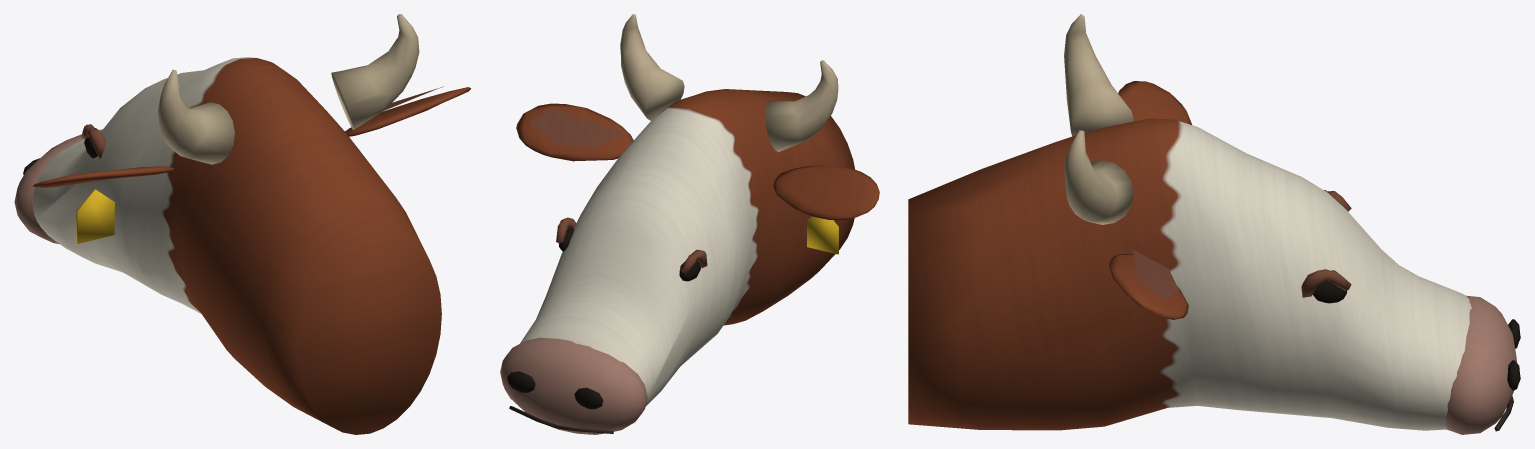
The model's file is SM_Cow_Alive_Head_LOD2.glb.
The picture shows the model from 3 angles, left to right: view 1: azimuth 30°, elevation 25°; view 2: azimuth 150°, elevation 25°; view 3: azimuth 270°, elevation 25°; orthographic projection. The views are drawn at different scales.
Visible parts, largest first — view 1: SM_Cow_Alive_Head_LOD2; view 2: SM_Cow_Alive_Head_LOD2; view 3: SM_Cow_Alive_Head_LOD2.
Boxes of the visible parts, box(x1,y1,x2,y2) form: SM_Cow_Alive_Head_LOD2: box(14, 14, 470, 434); SM_Cow_Alive_Head_LOD2: box(500, 14, 879, 434); SM_Cow_Alive_Head_LOD2: box(908, 14, 1520, 434).
Bounding box in the file's own units: 1.01 × 0.762 × 1.2.
8 materials, 8 textured.
